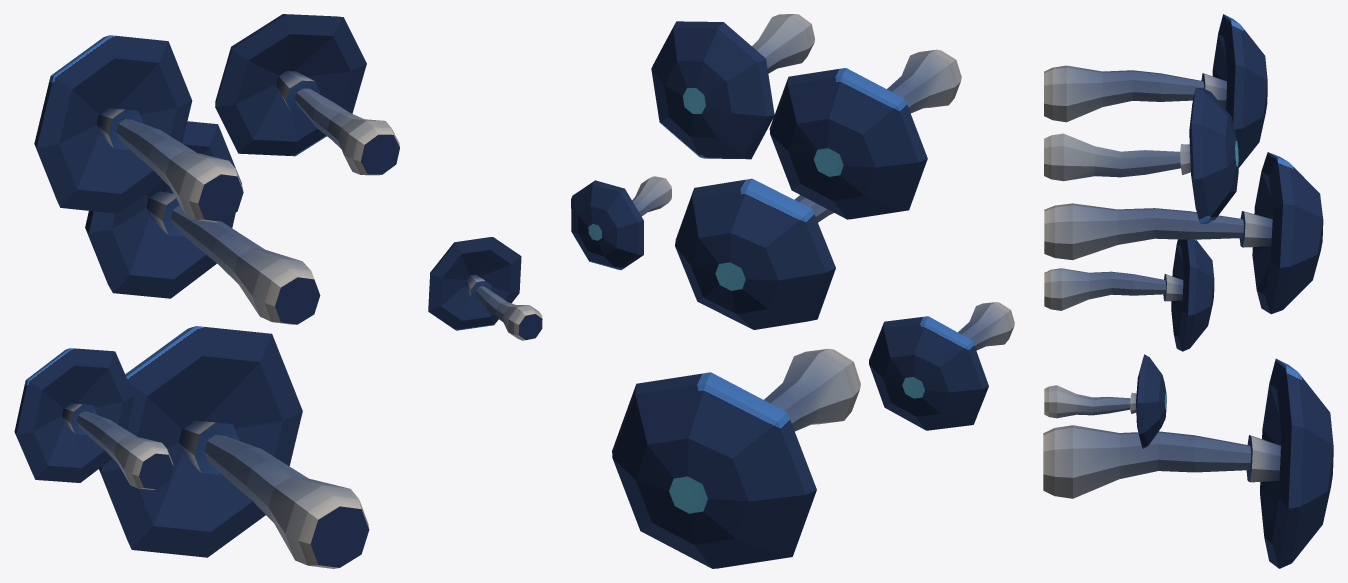
File: Conjunto de hongos suelo.fbx
The picture shows the model from 3 angles, left to right: view 1: azimuth 30°, elevation 25°; view 2: azimuth 150°, elevation 25°; view 3: azimuth 270°, elevation 25°; orthographic projection. The views are drawn at different scales.
Visible parts, largest first — view 1: Hongo-suelo.003, Hongo-suelo; view 2: Hongo-suelo.003, Hongo-suelo; view 3: Hongo-suelo.003, Hongo-suelo.
Part boxes in pixels (x1=…): Hongo-suelo.003: x1=14, y1=14, x2=542, y2=489; Hongo-suelo: x1=99, y1=326, x2=369, y2=568; Hongo-suelo.003: x1=571, y1=14, x2=1014, y2=430; Hongo-suelo: x1=612, y1=348, x2=860, y2=568; Hongo-suelo.003: x1=1044, y1=14, x2=1323, y2=448; Hongo-suelo: x1=1043, y1=358, x2=1333, y2=568.
Bounding box in the file's own units: 81.31 × 91.25 × 48.86.
